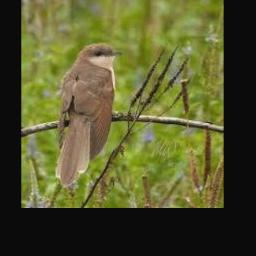Cuckoo: (55, 43, 123, 186)
